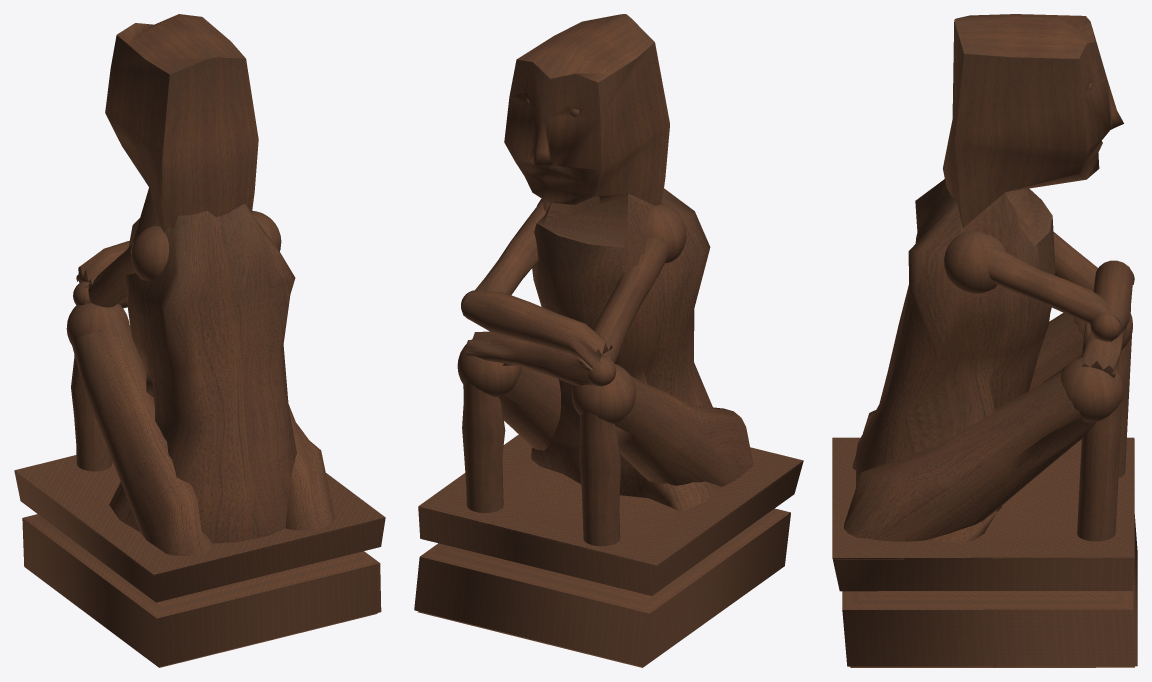
File: bulul.FBX
3 renders of one model, left to right at view 1: azimuth 30°, elevation 25°; view 2: azimuth 150°, elevation 25°; view 3: azimuth 270°, elevation 25°, orthographic. The views are drawn at different scales.
Visible parts, largest first — view 1: Cylinder001; view 2: Cylinder001; view 3: Cylinder001.
Boxes of the visible parts, x1=… form: Cylinder001: x1=14, y1=14, x2=385, y2=667; Cylinder001: x1=414, y1=14, x2=803, y2=667; Cylinder001: x1=832, y1=14, x2=1137, y2=667.
Size of the model in its own units: 30.94 by 69.22 by 32.42.
